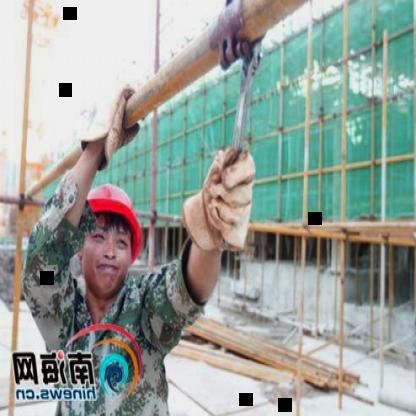helmet: (74, 167, 150, 300)
